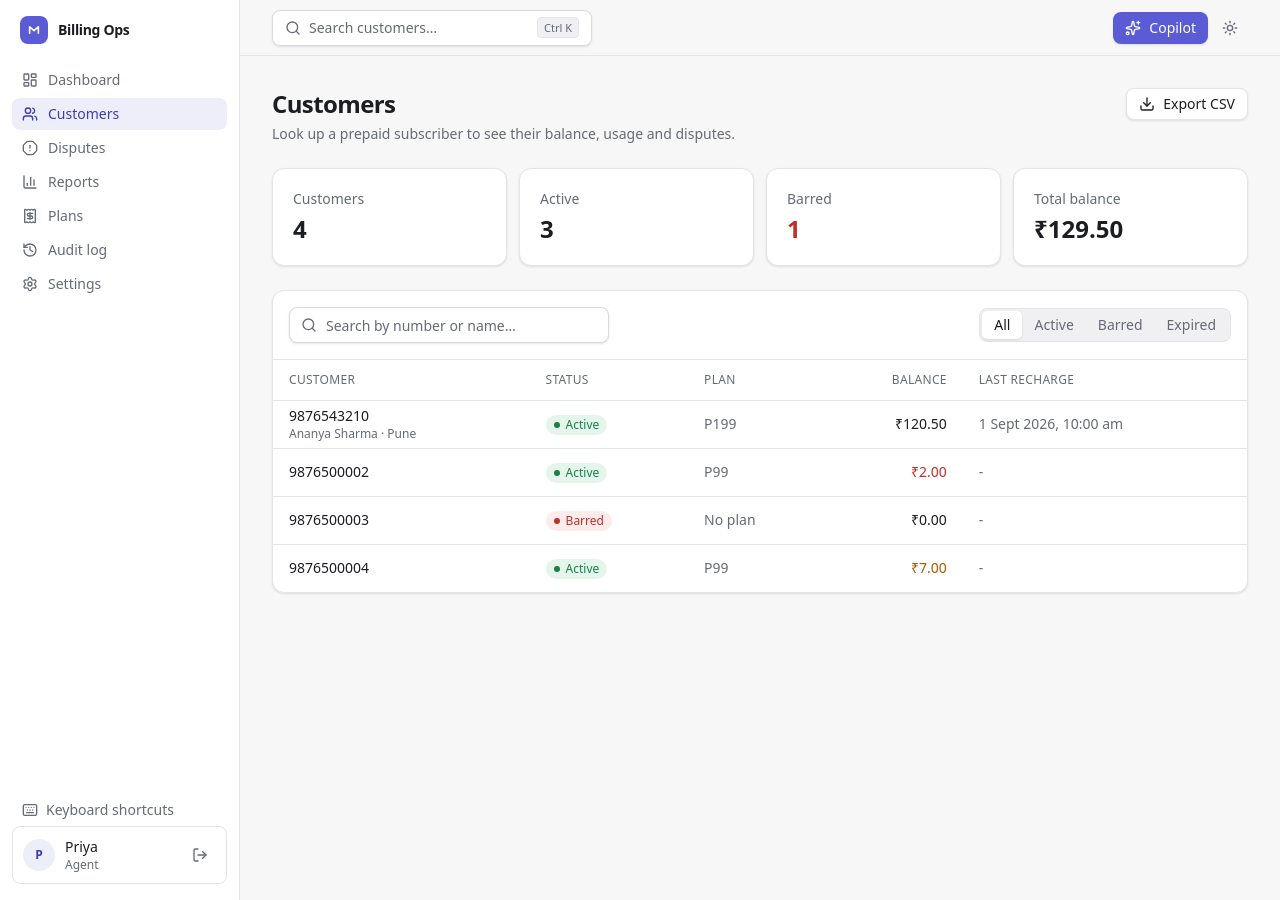
Test: Copilot drawer › does not send an empty question
Click the button with test id "copilot-open" at {"x": 1161, "y": 28}, box [1113,12,1208,44]
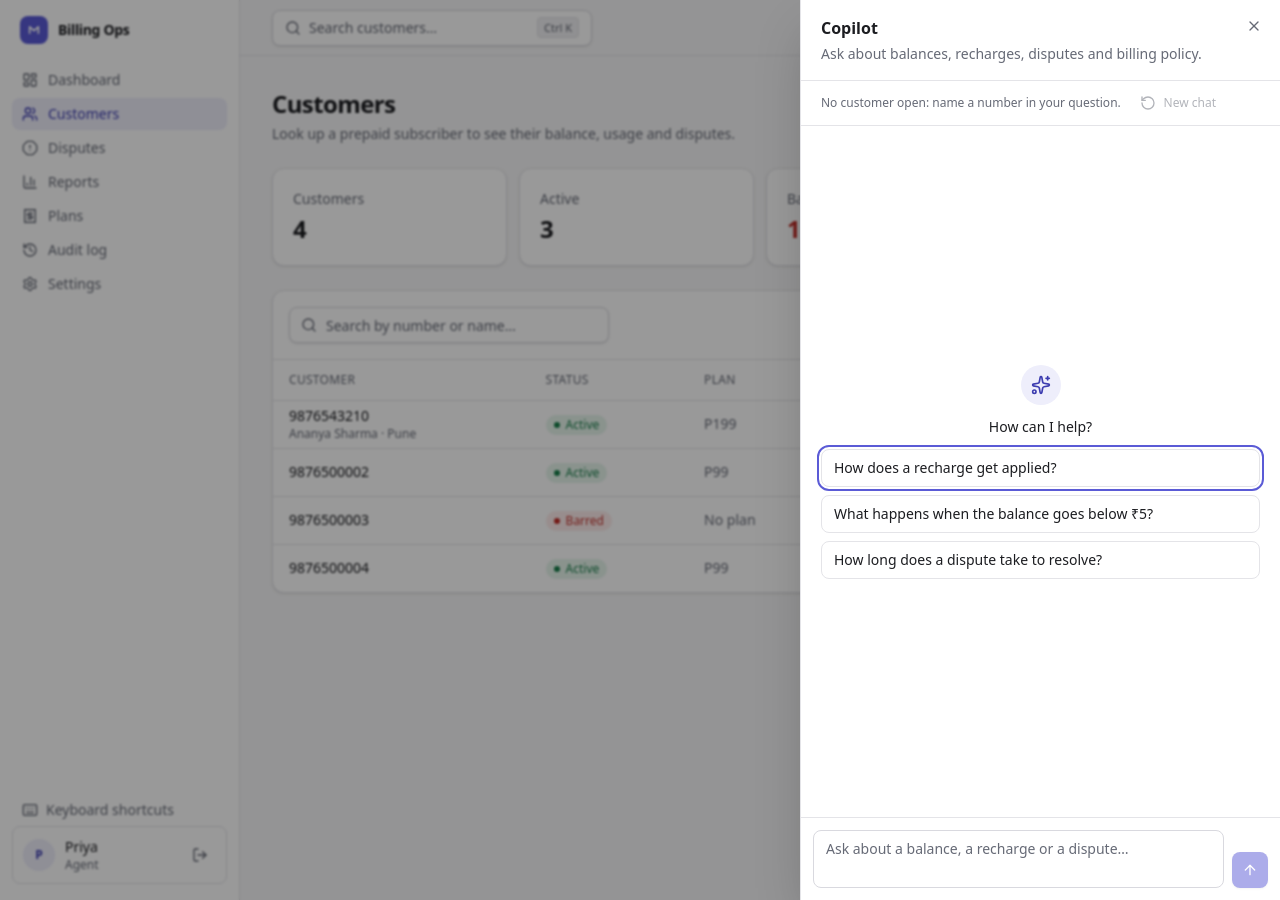
Check: the button with test id "copilot-send" is disabled, box [1232,852,1268,888]
Check: the text "No customer open: name a number in your question." is shown, box [821,95,1121,111]
